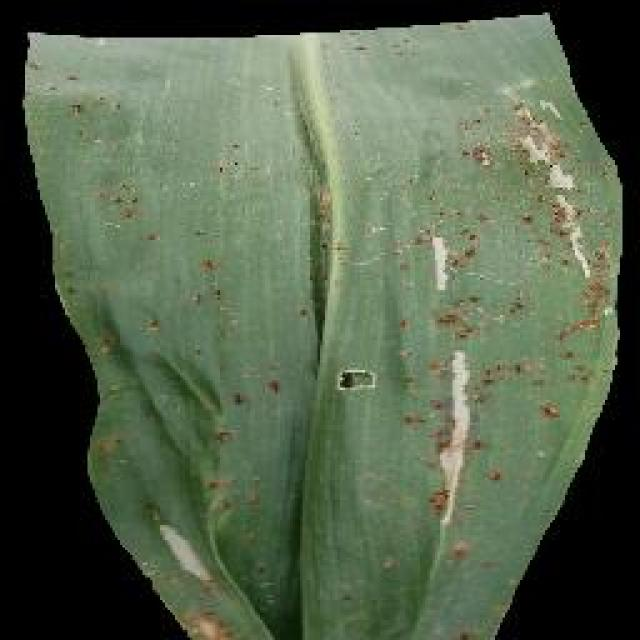Corn___Common_rust: (10, 30, 632, 640)
